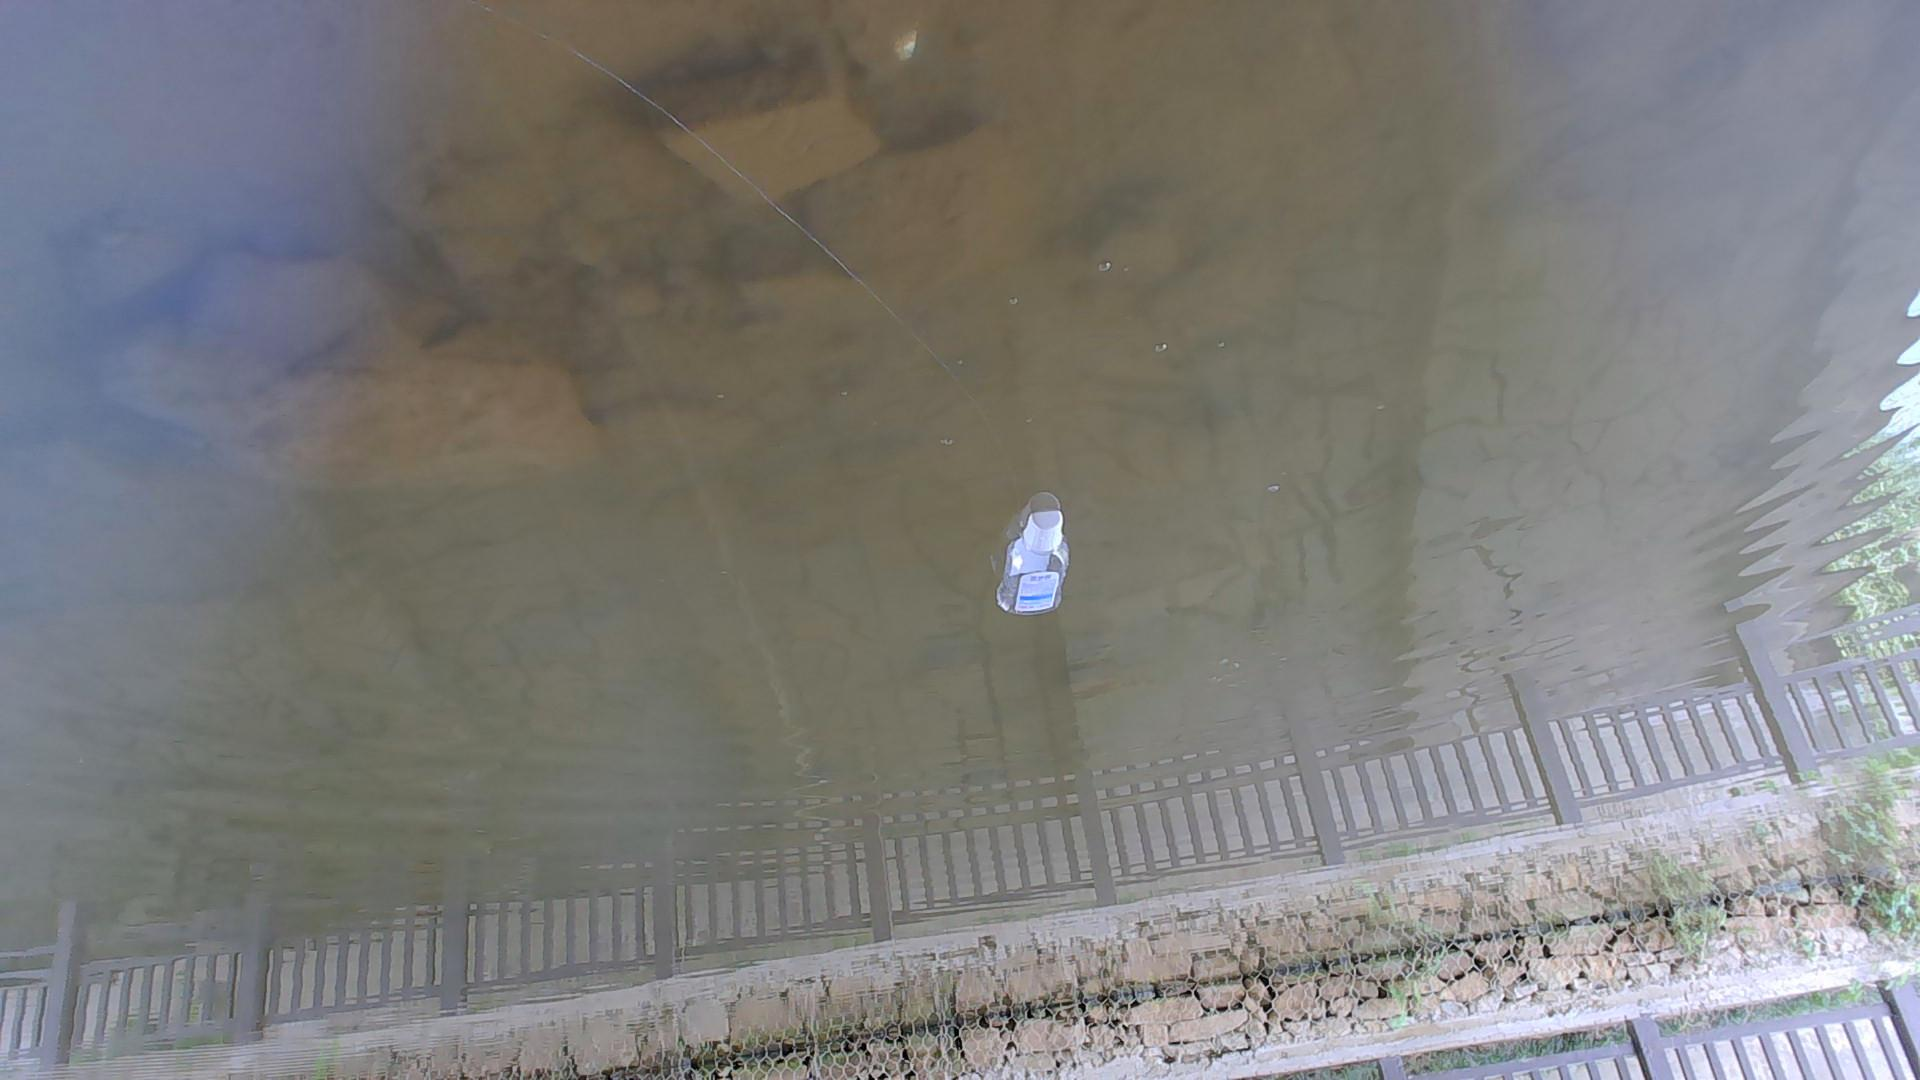Plastic: (992, 504, 1072, 622)
